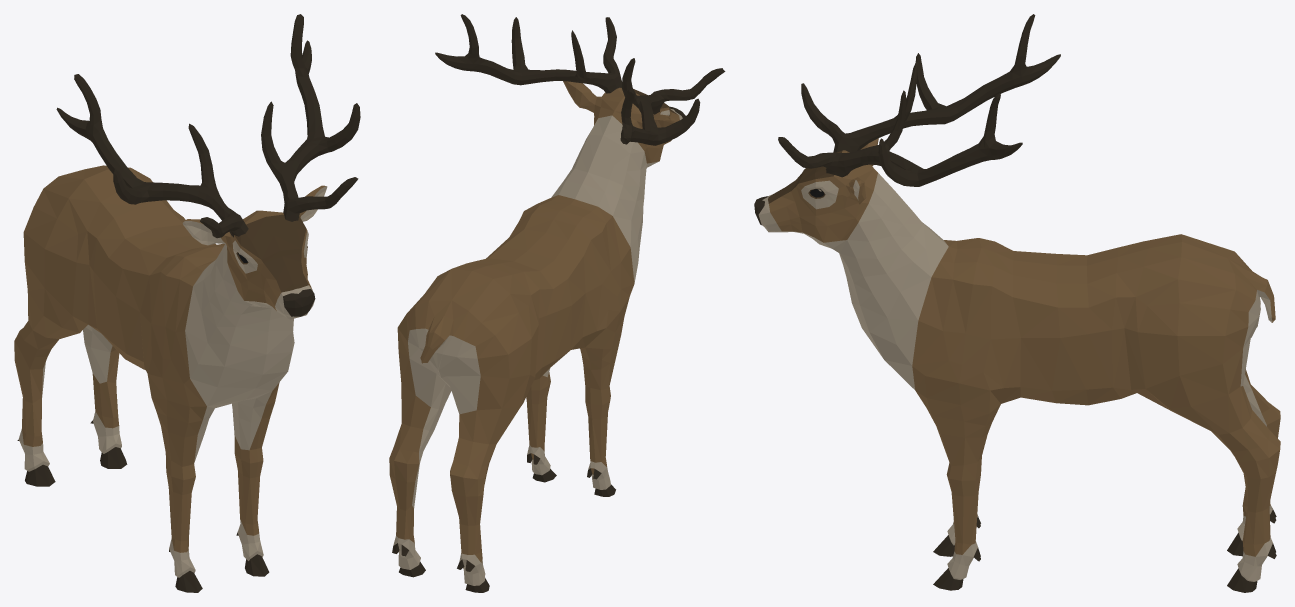
The model's file is ciervo.glb.
The picture shows the model from 3 angles, left to right: view 1: azimuth 30°, elevation 25°; view 2: azimuth 150°, elevation 25°; view 3: azimuth 270°, elevation 25°; orthographic projection. The views are drawn at different scales.
Bounding box in the file's own units: 0.4948 × 1 × 0.9087.
